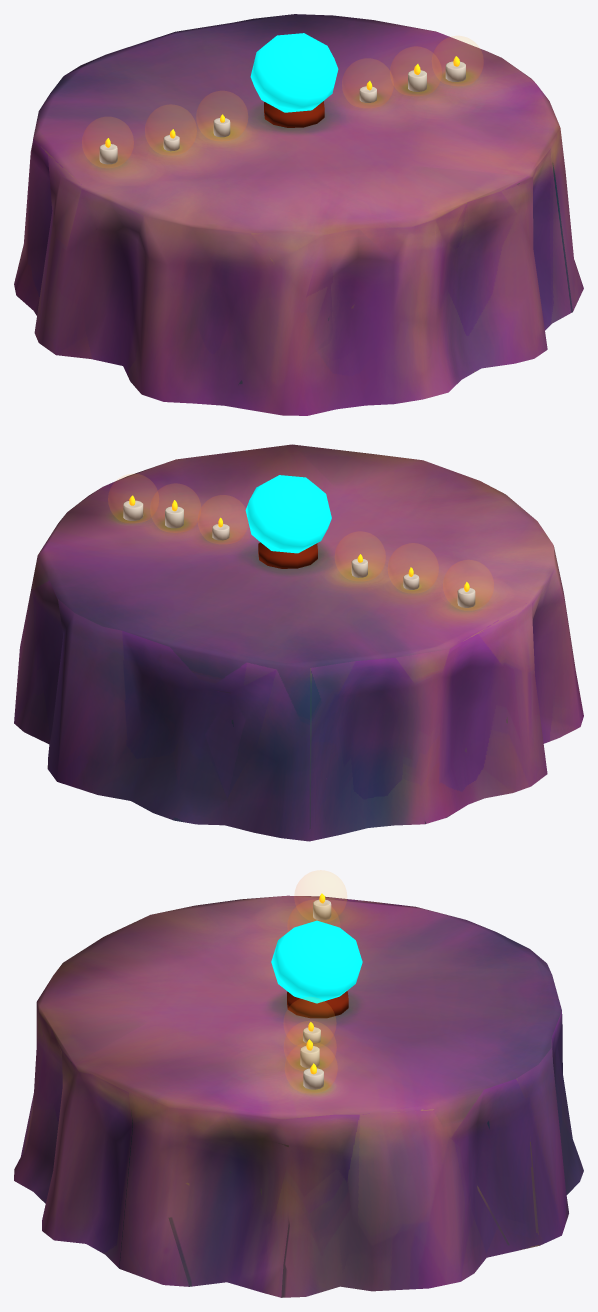
The model's file is table.glb.
3 renders of one model, top to bottom at view 1: azimuth 30°, elevation 25°; view 2: azimuth 150°, elevation 25°; view 3: azimuth 270°, elevation 25°, orthographic. The views are drawn at different scales.
Visible parts, largest first — view 1: fortunetable.008; view 2: fortunetable.008; view 3: fortunetable.008.
Part boxes in pixels (x1=…): fortunetable.008: x1=14, y1=14, x2=583, y2=415; fortunetable.008: x1=14, y1=444, x2=583, y2=841; fortunetable.008: x1=14, y1=895, x2=583, y2=1297.
Size of what is drawn, in the model's own units: 2.06 by 1.01 by 2.03.
Materials: 5 (1 with a texture image).
